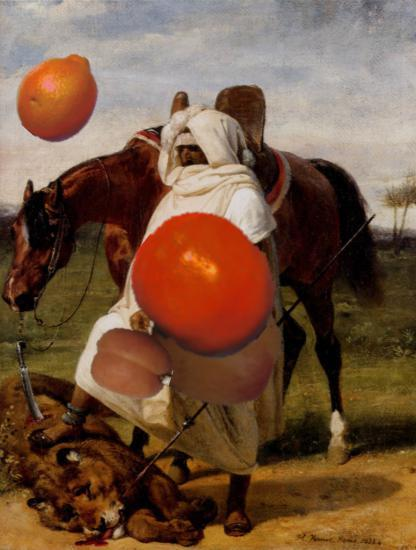Apricot: (147, 279, 282, 414), (92, 322, 174, 404)
Clementine: (130, 211, 280, 361)
Tangelo: (13, 50, 106, 143)
